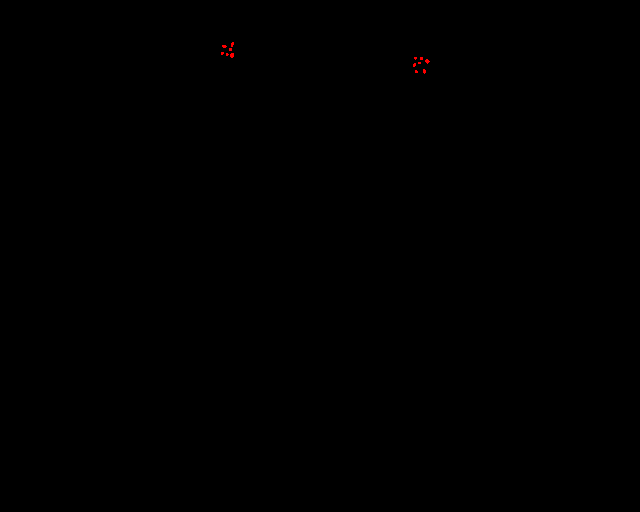Target: (425, 59, 430, 64), (230, 53, 234, 58), (231, 42, 234, 47), (222, 45, 227, 48), (423, 69, 426, 74), (413, 63, 416, 67), (229, 48, 232, 51), (221, 52, 224, 55), (226, 53, 229, 56), (414, 57, 417, 60), (420, 57, 423, 60), (415, 70, 418, 73), (418, 62, 421, 64)
